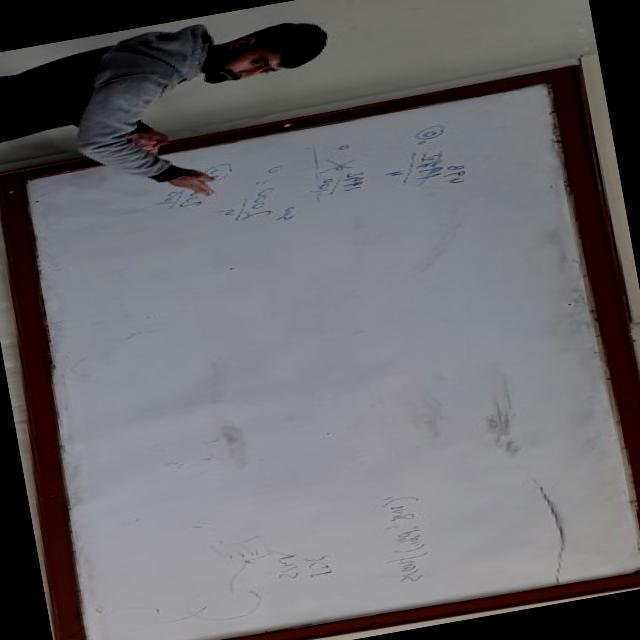Instructor: (0, 0, 376, 164)
White-board: (0, 74, 640, 640)
